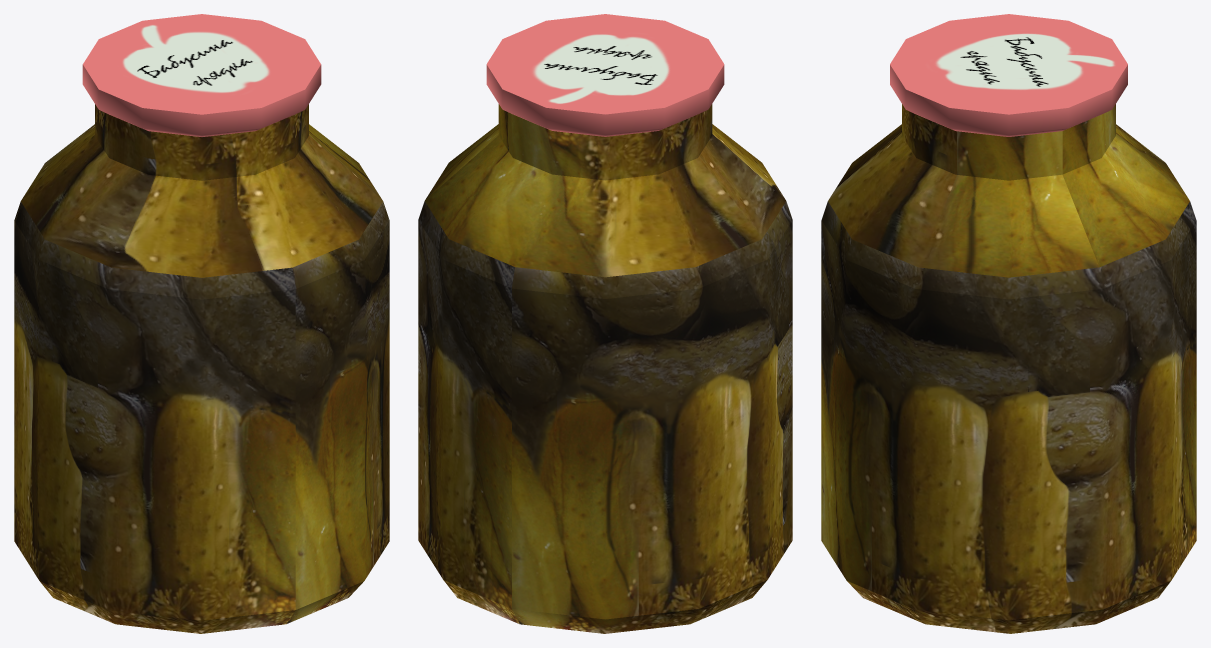
Rendered from GlassCan.fbx.
3 views of the same model, side by side, from view 1: azimuth 30°, elevation 25°; view 2: azimuth 150°, elevation 25°; view 3: azimuth 270°, elevation 25° (orthographic).
Parts seen in each view (by area): view 1: GlassCan; view 2: GlassCan; view 3: GlassCan.
Boxes of the visible parts, <box> form: GlassCan: <box>14,14,389,633</box>; GlassCan: <box>418,14,792,633</box>; GlassCan: <box>821,14,1196,633</box>.
Bounding box in the file's own units: 40 × 58.58 × 40.
